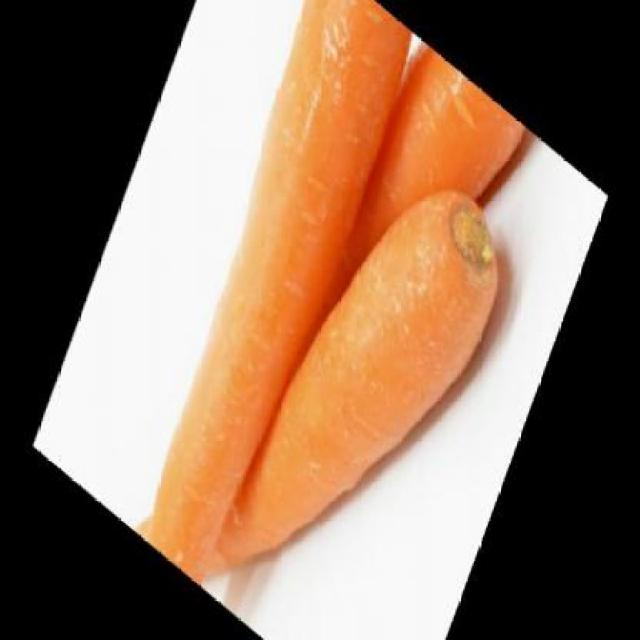carrot: (130, 52, 524, 638), (112, 0, 423, 598), (298, 30, 530, 435)
